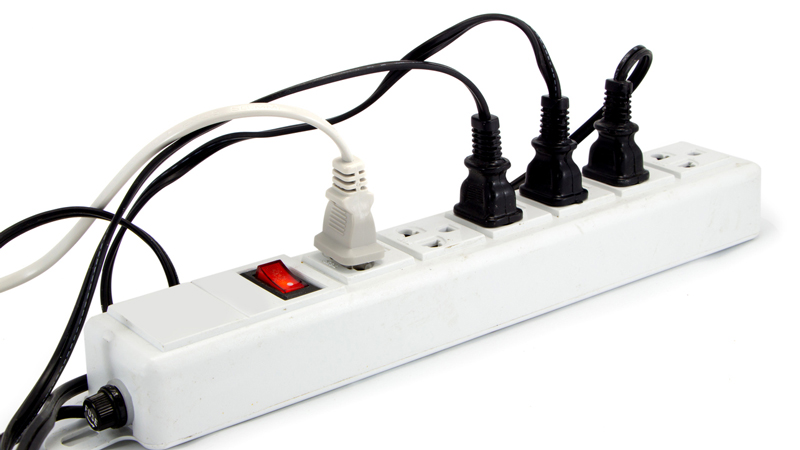Three_eye_plug: (77, 135, 763, 450)
